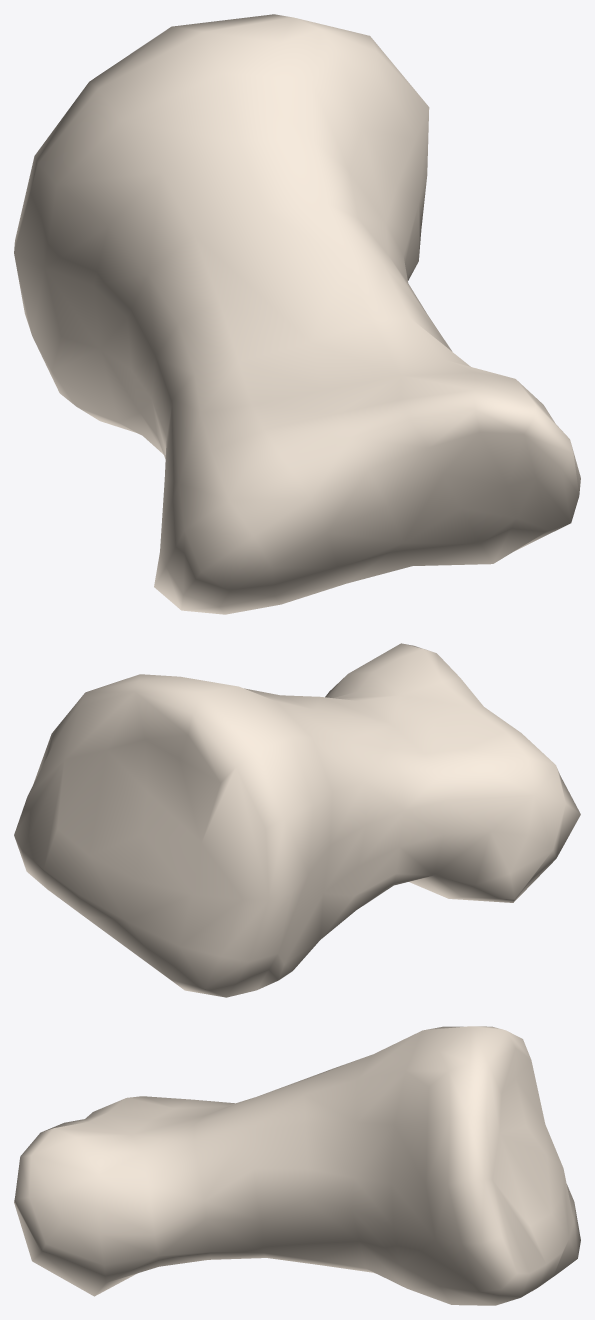
The model's file is right_toe_2_middle.glb.
3 renders of one model, top to bottom at view 1: azimuth 30°, elevation 25°; view 2: azimuth 150°, elevation 25°; view 3: azimuth 270°, elevation 25°, orthographic. The views are drawn at different scales.
Parts seen in each view (by area): view 1: Middle phalanx of second finger of foot.r; view 2: Middle phalanx of second finger of foot.r; view 3: Middle phalanx of second finger of foot.r.
Boxes of the visible parts, bbox=[...] form: Middle phalanx of second finger of foot.r: bbox=[14, 14, 580, 614]; Middle phalanx of second finger of foot.r: bbox=[14, 643, 580, 997]; Middle phalanx of second finger of foot.r: bbox=[14, 1026, 580, 1305].
Size of the model in its own units: 0.0118 by 0.00881 by 0.0162.
